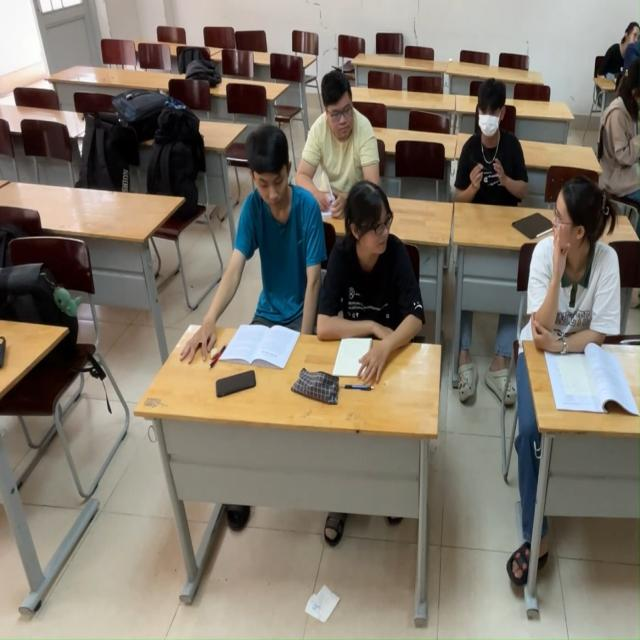raise_hand: (522, 182, 628, 420)
